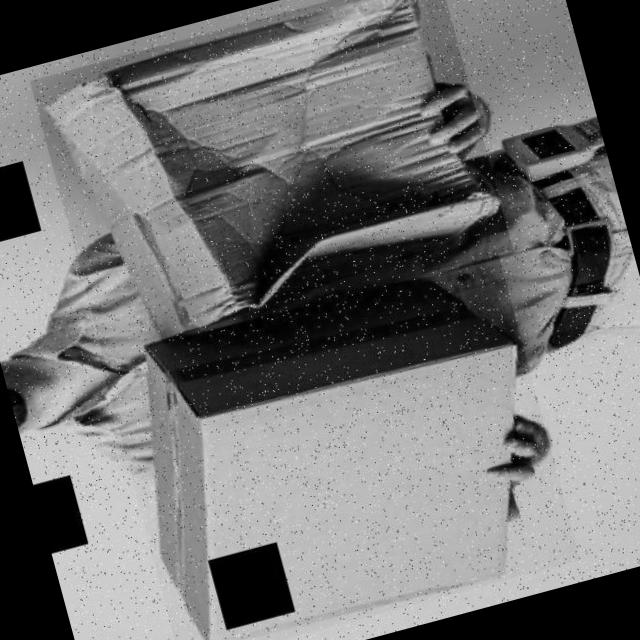box: (97, 245, 580, 640), (29, 0, 512, 359)
